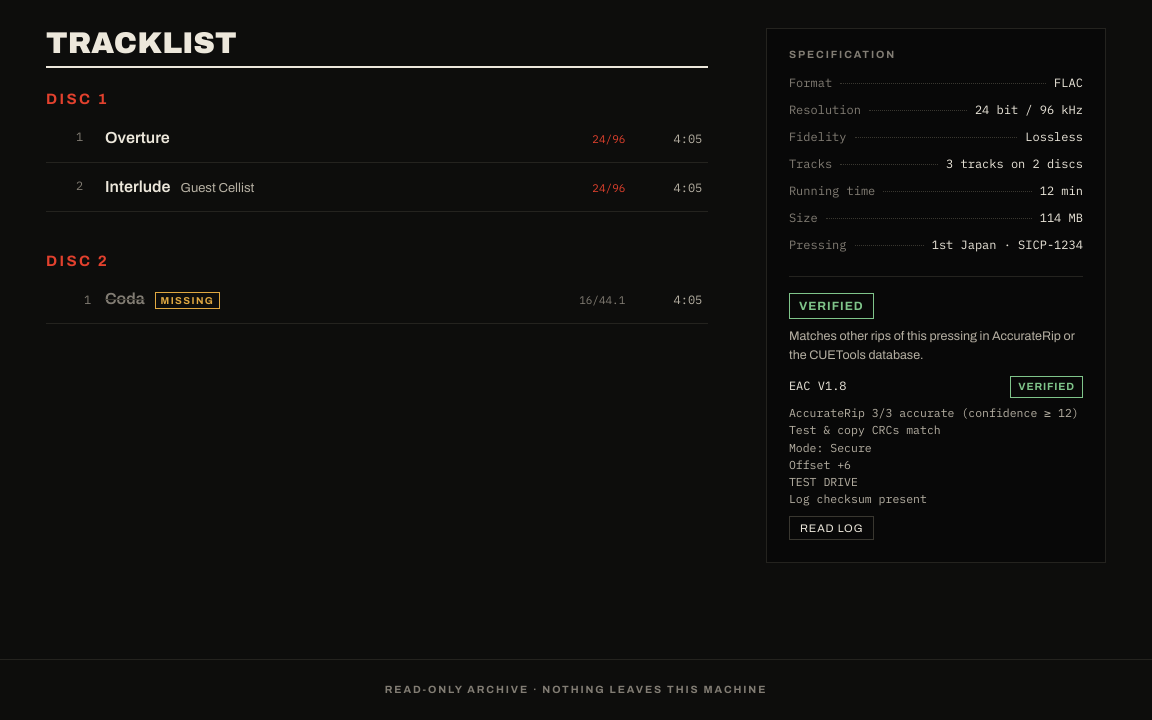
album page › summarizes the rip logs and opens one in full
The image size is (1152, 720).
(page scrolled)
Expected: the text "Verified" is shown 2 times, [789, 293, 874, 319]; [1010, 376, 1083, 398]
Expected: the list item "AccurateRip 3/3 accurate (confidence ≥ 12)" is shown, [789, 404, 1083, 421]
Step 1. Click the button "Read log" → click(832, 528), box [789, 516, 874, 540]
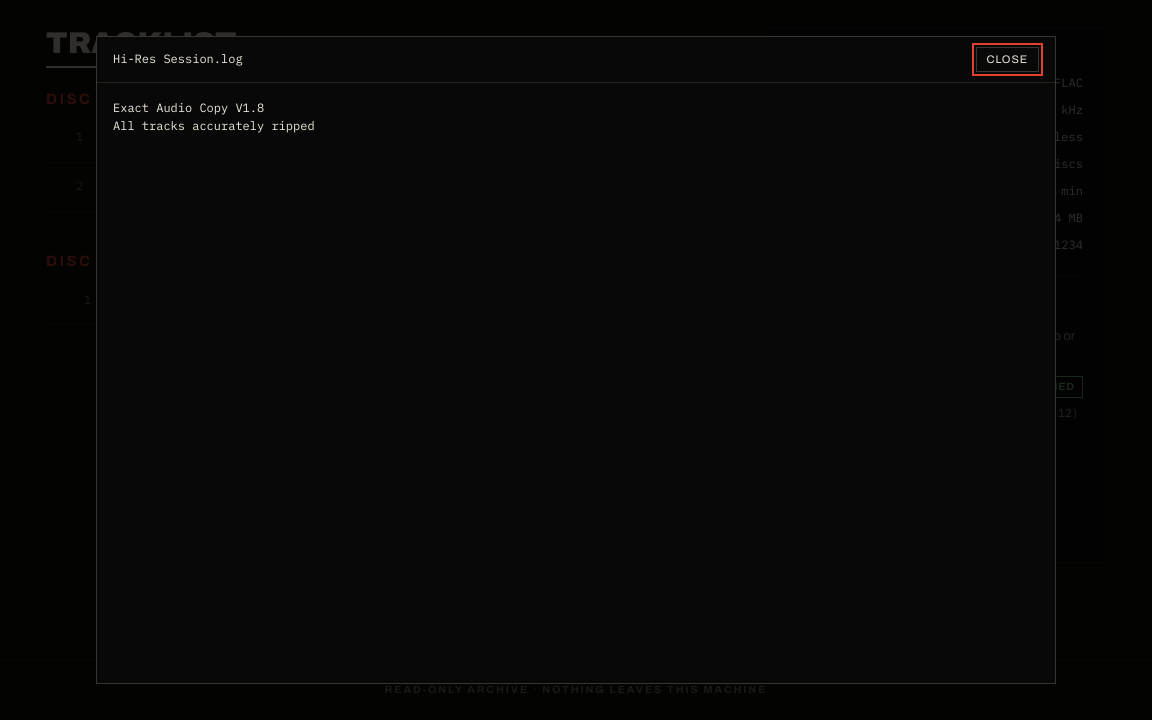
Now the text "Exact Audio Copy V1.8 All tracks accurately ripped" is shown, box [113, 100, 315, 132]
